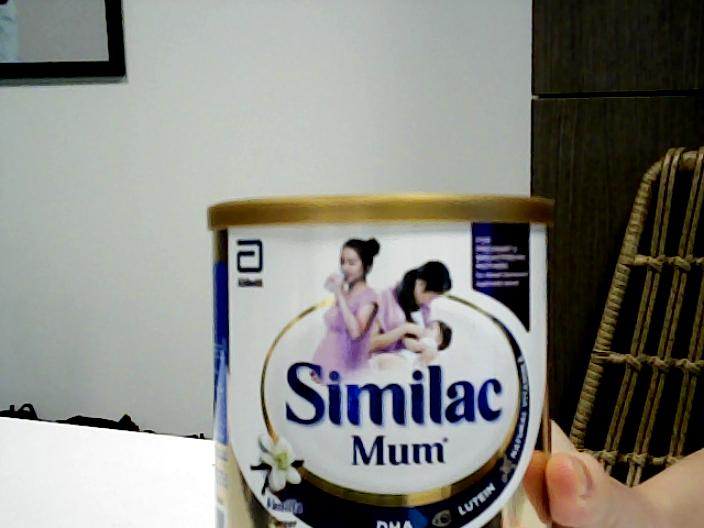MaternalMilkPowder_400-499g_NonHalal_Healthy: (206, 194, 554, 528)
